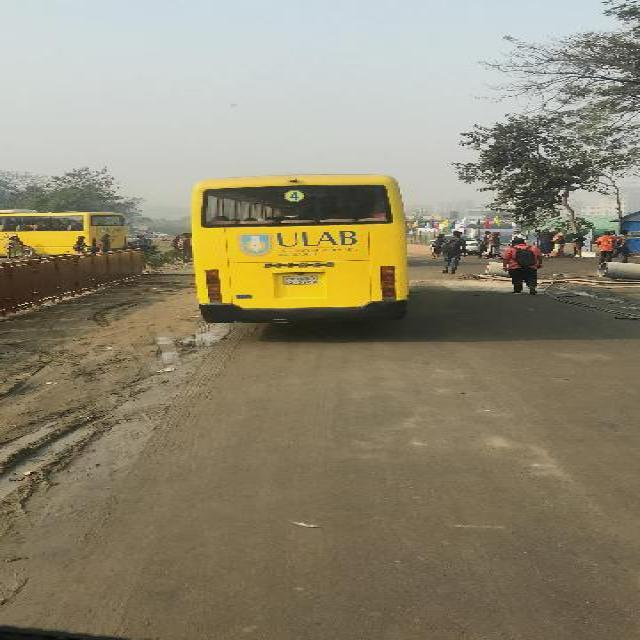BUS: (192, 174, 410, 327)
